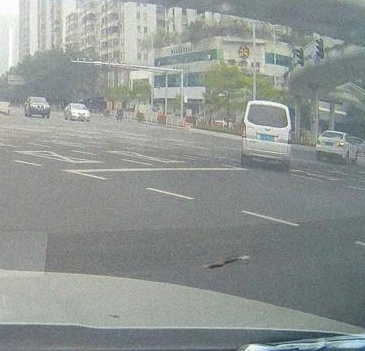L_light: (242, 122, 246, 138), (317, 140, 321, 145)
R_light: (288, 129, 292, 144), (338, 142, 344, 147)
T_light: (263, 105, 271, 107), (331, 132, 335, 134)
day-no: (242, 101, 292, 172)
day-right: (316, 130, 345, 164)
